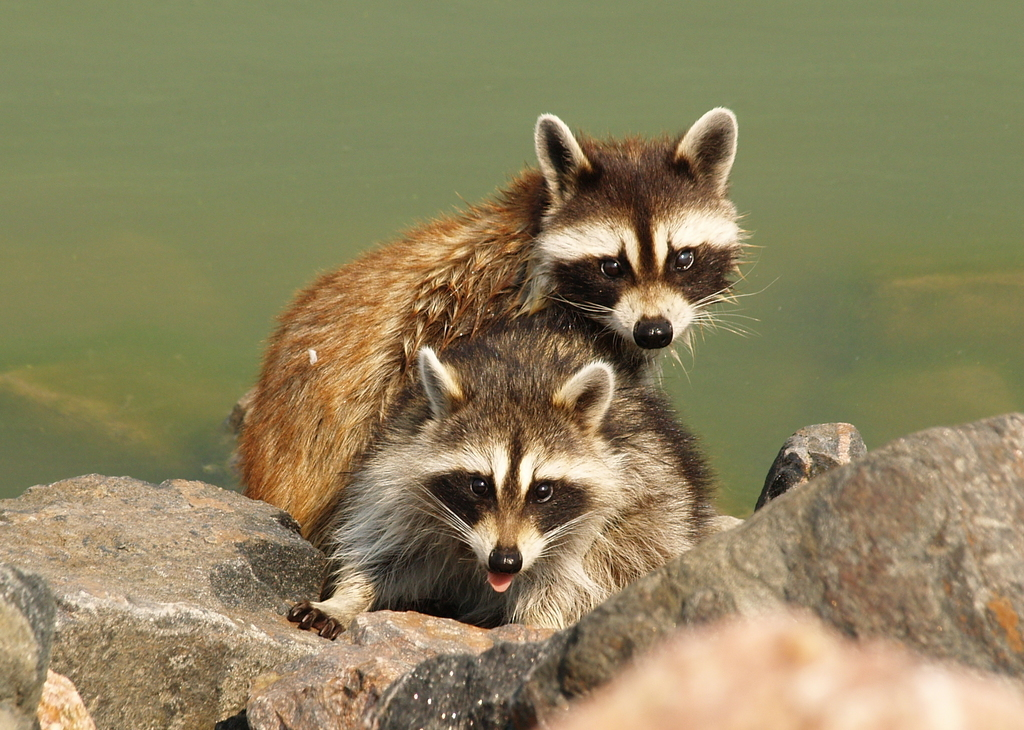raccoon: (237, 107, 750, 531), (294, 305, 712, 639)
